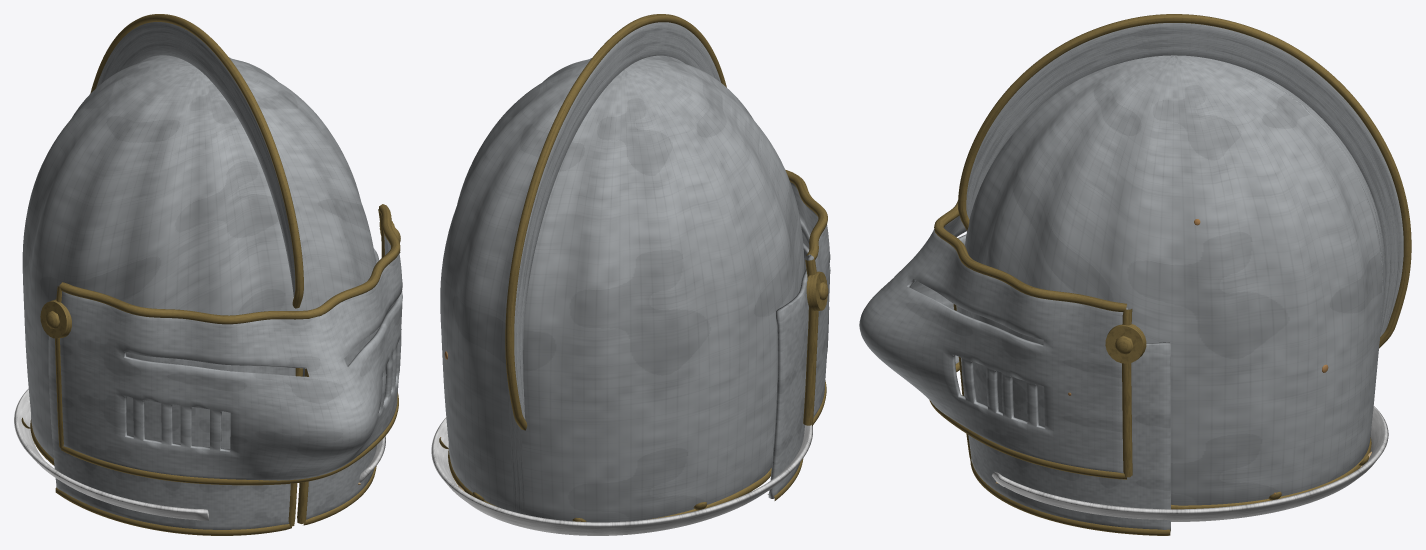
3 views of the same model, side by side, from view 1: azimuth 30°, elevation 25°; view 2: azimuth 150°, elevation 25°; view 3: azimuth 270°, elevation 25° (orthographic). The views are drawn at different scales.
Visible parts, largest first — view 1: polished fluted plate, aged alloy edge, oiled strap leather; view 2: polished fluted plate, aged alloy edge, oiled strap leather; view 3: polished fluted plate, aged alloy edge, oiled strap leather.
Boxes of the visible parts, box(x1,y1,x2,y2) form: polished fluted plate: box(22, 22, 402, 529); aged alloy edge: box(21, 14, 400, 535); oiled strap leather: box(14, 389, 385, 520); polished fluted plate: box(440, 22, 830, 522); aged alloy edge: box(439, 14, 828, 521); oiled strap leather: box(431, 417, 812, 535); polished fluted plate: box(859, 23, 1403, 531); aged alloy edge: box(929, 14, 1411, 535); oiled strap leather: box(992, 406, 1388, 521).
Size of the model in its own units: 0.2578 by 0.3008 by 0.3364.
7 materials, 4 textured.
